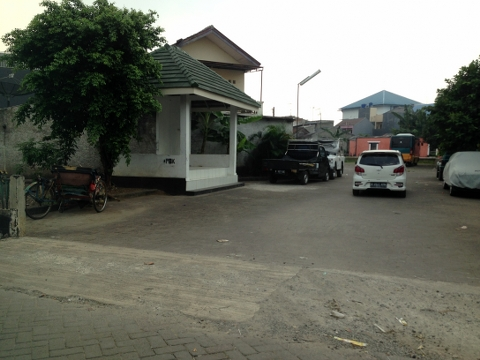mobil: (262, 140, 329, 184), (352, 150, 407, 197), (443, 151, 480, 197), (390, 133, 420, 166)
